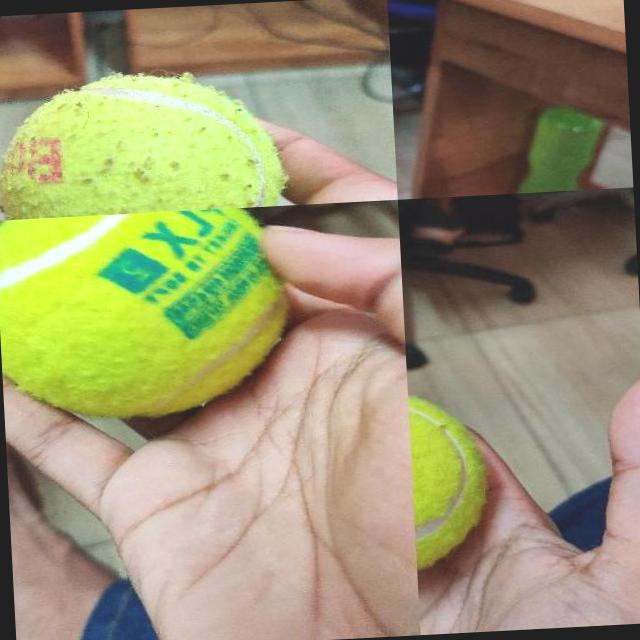Tennis Ball: (0, 205, 295, 423), (0, 66, 285, 219), (408, 382, 491, 580)
